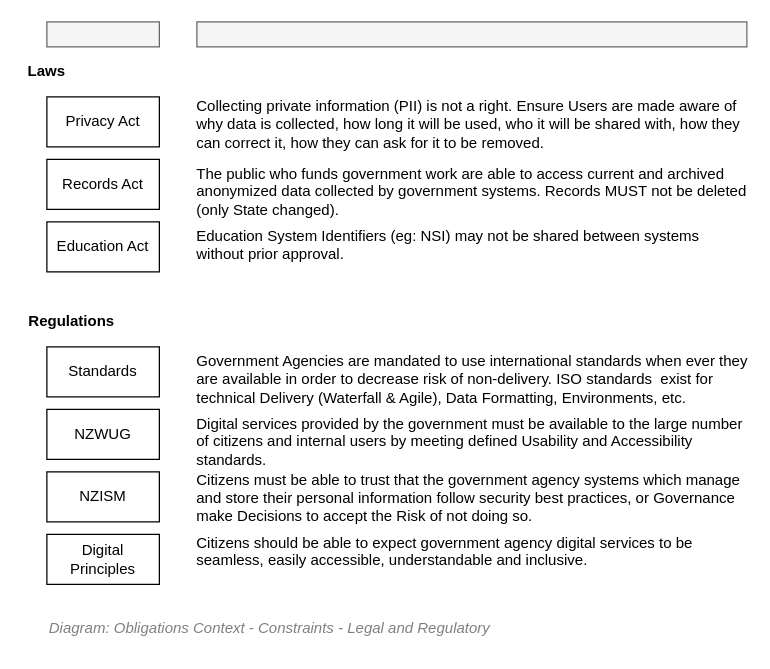
Image size: 770x669. Some labels were removed from this diagram. Each missing label, with the centre of its shape:
"Key Outcomes" belongs at (471,34).
"Type" belongs at (102,34).
